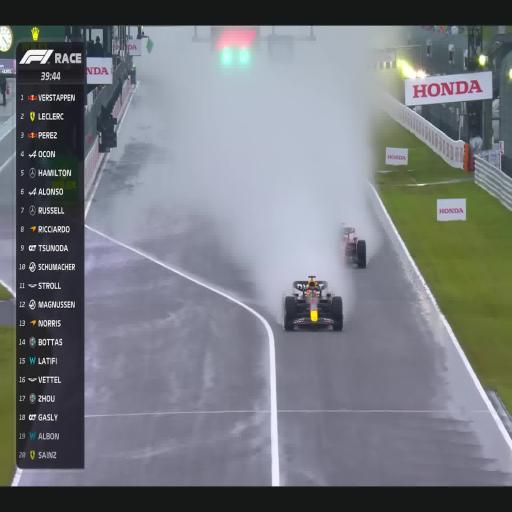f1_car: (284, 275, 343, 330), (342, 225, 366, 267)
